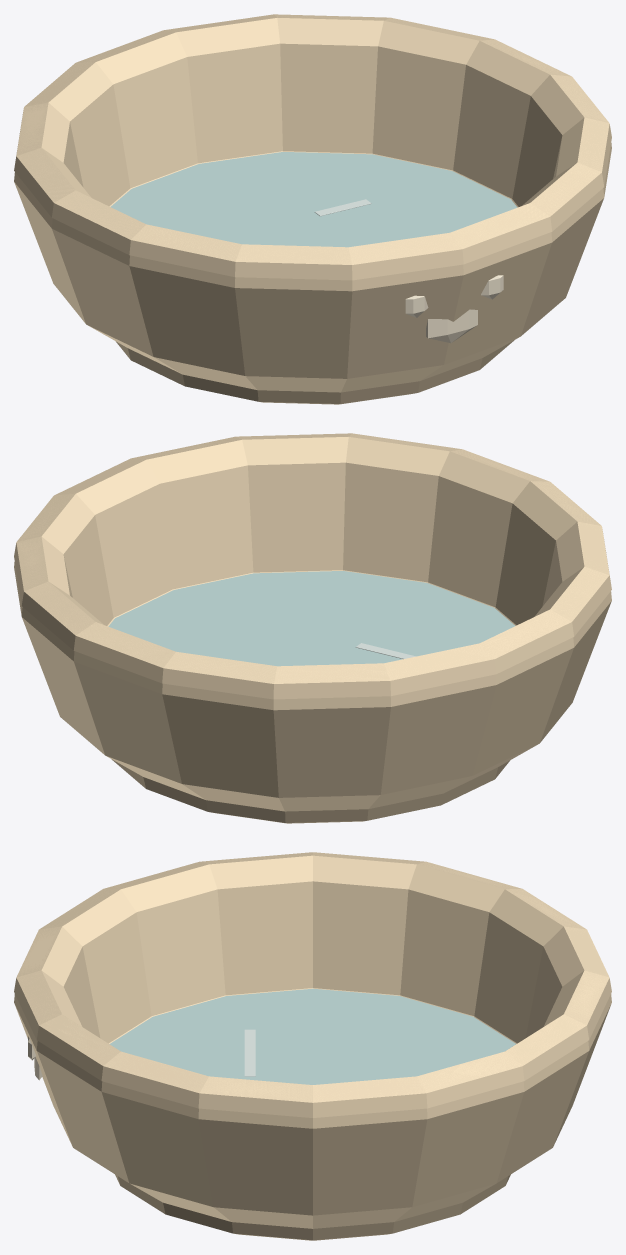
Rendered from crafted-cat-water-3-1.glb.
3 renders of one model, top to bottom at view 1: azimuth 30°, elevation 25°; view 2: azimuth 150°, elevation 25°; view 3: azimuth 270°, elevation 25°, orthographic.
Visible parts, largest first — view 1: ceramic-bowl, water-level, glazed-rim, foot-ring, paw-pad; view 2: ceramic-bowl, water-level, glazed-rim, foot-ring; view 3: ceramic-bowl, water-level, glazed-rim, foot-ring, water-glint.
Boxes of the visible parts, bbox=[...] form: ceramic-bowl: bbox=[14, 14, 611, 392]; water-level: bbox=[111, 152, 517, 247]; glazed-rim: bbox=[14, 14, 611, 280]; foot-ring: bbox=[116, 340, 514, 404]; paw-pad: bbox=[426, 309, 477, 343]; ceramic-bowl: bbox=[14, 433, 611, 811]; water-level: bbox=[108, 571, 514, 666]; glazed-rim: bbox=[14, 433, 611, 699]; foot-ring: bbox=[111, 759, 509, 823]; ceramic-bowl: bbox=[14, 852, 611, 1228]; water-level: bbox=[109, 988, 516, 1084]; glazed-rim: bbox=[14, 852, 611, 1117]; foot-ring: bbox=[115, 1174, 510, 1240]; water-glint: bbox=[244, 1029, 255, 1076].
Size of the model in its own units: 0.76 by 0.265 by 0.76.
